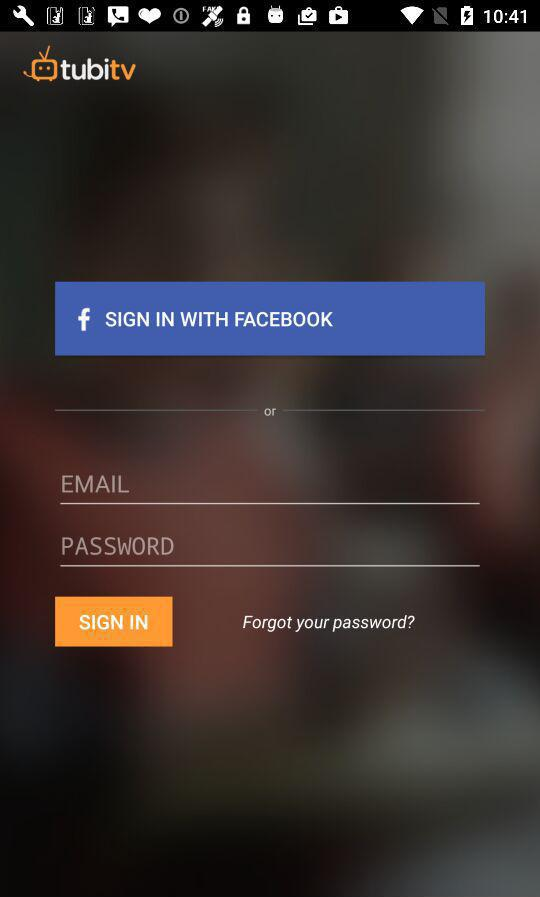EditText: (60, 474, 481, 506), (60, 536, 481, 568)
Image: (23, 45, 138, 83)
Text: (243, 614, 416, 633), (62, 536, 174, 556), (62, 475, 131, 495), (264, 408, 277, 417)
TextButton: (55, 281, 486, 357), (55, 596, 174, 648)
UpperTaskBar: (1, 1, 540, 33)
